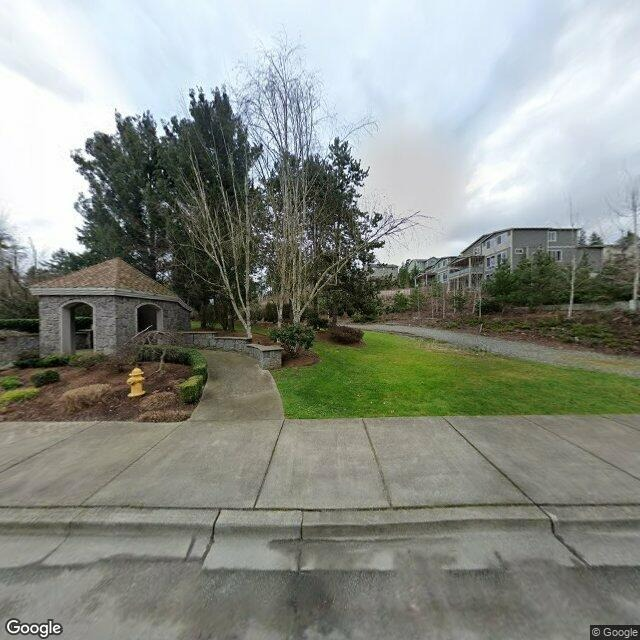hydrant: (127, 362, 150, 400)
